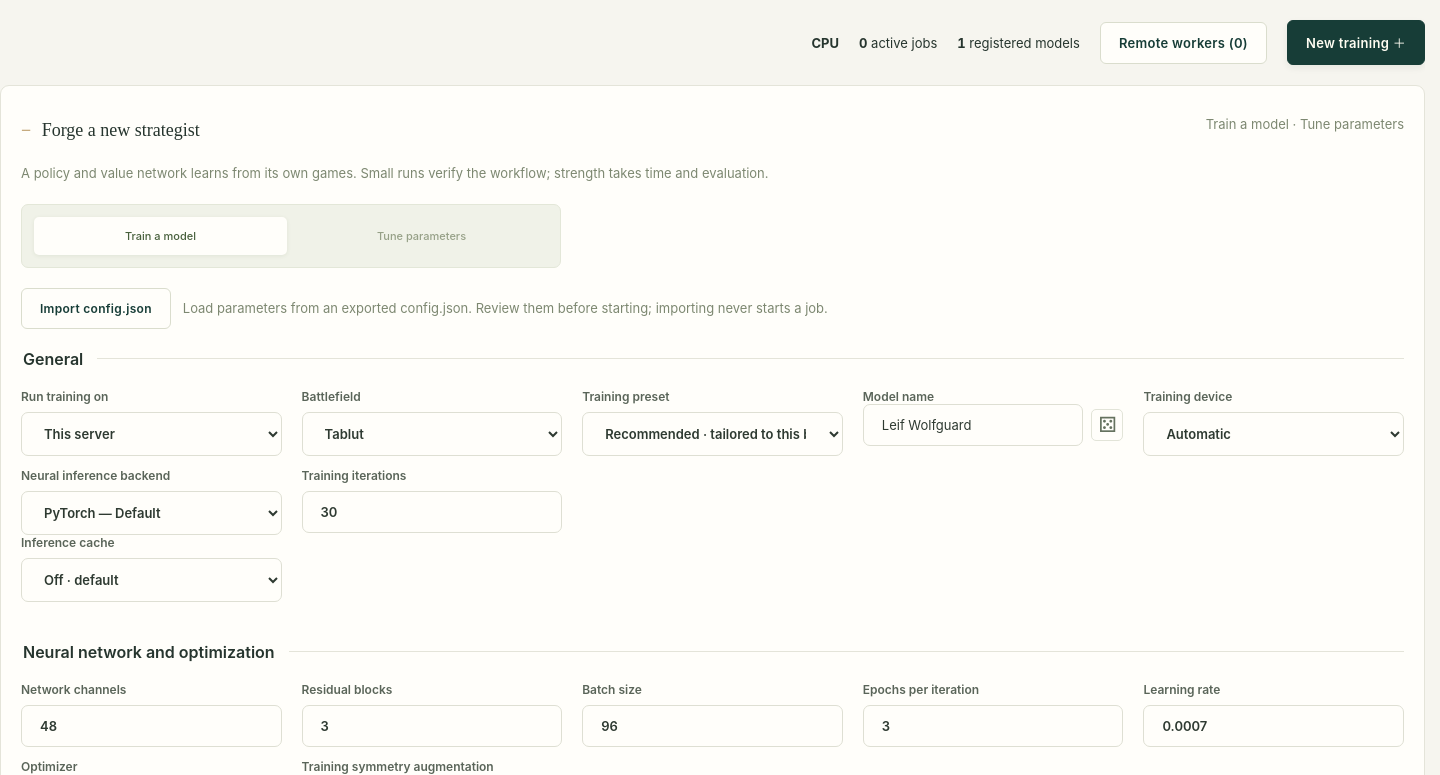
Test case: model and training collection controls › loads exact recorded budgets into the training form without starting work or copying paths
Click the button "Tune parameters" at point(422, 236), box [295, 217, 548, 255]
(page scrolled)
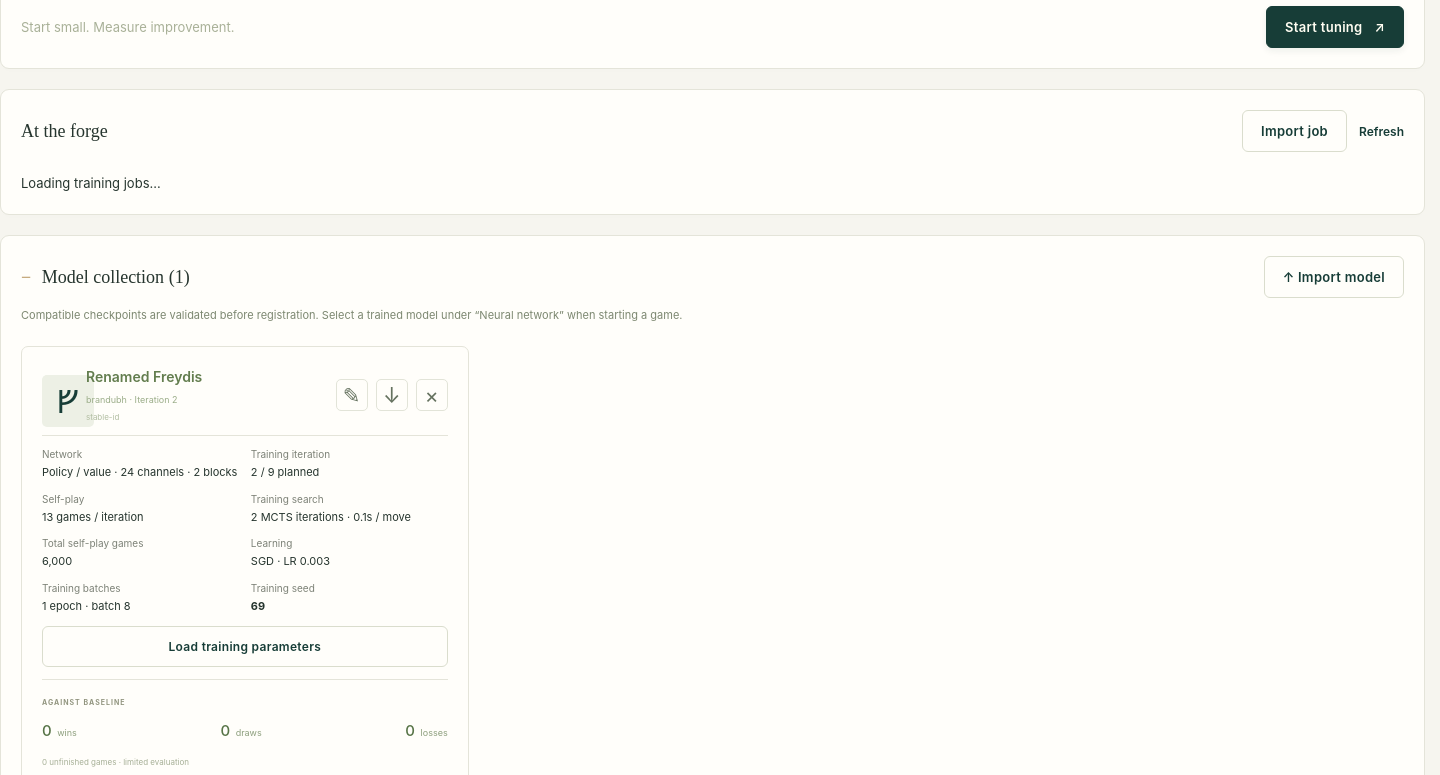
Click the button with aria-label "Load training parameters for Renamed Freydis" at point(245, 647), box [42, 626, 448, 667]
(page scrolled)
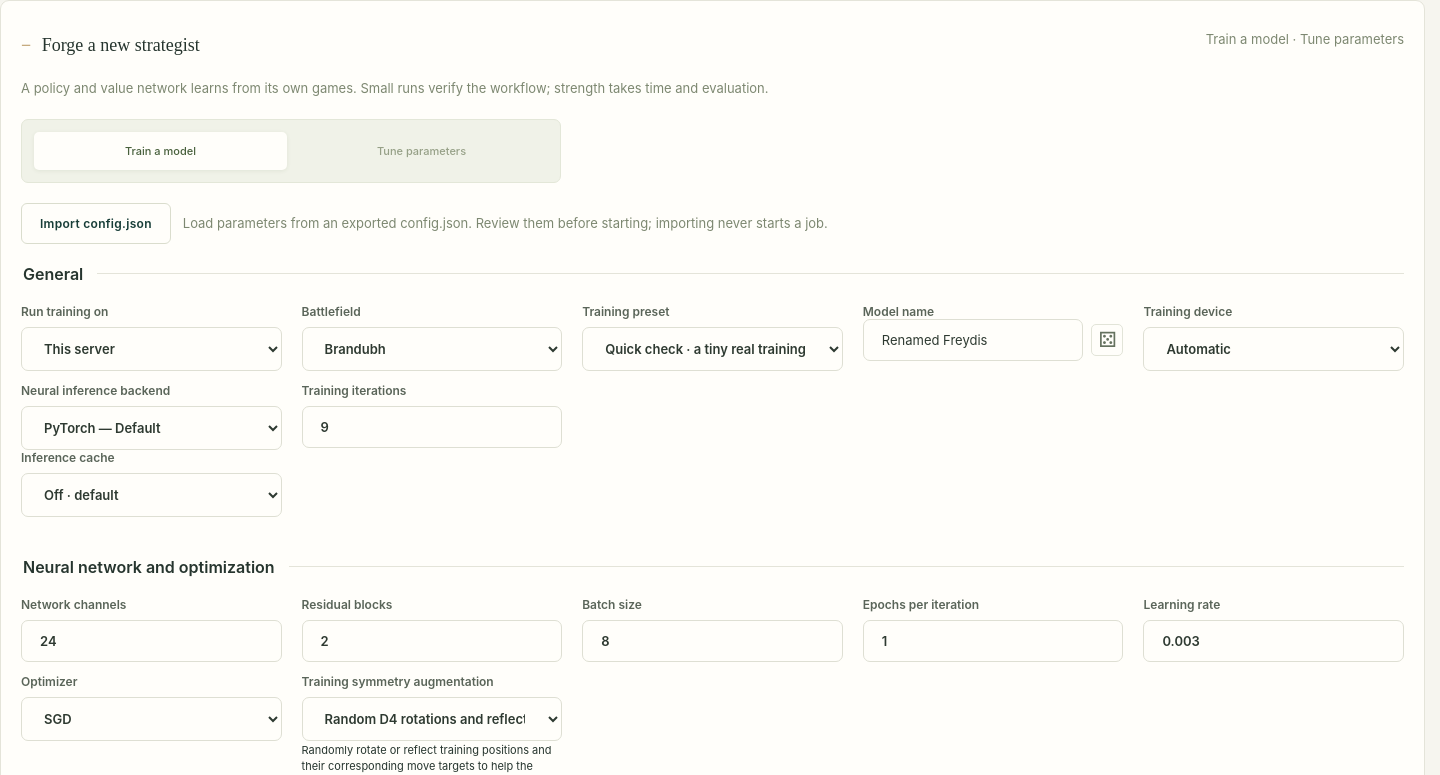
expect the field labelled "Model name" holds "Renamed Freydis": met, box [863, 319, 1083, 361]
expect the dropdown labelled "Battlefield" shows "Brandubh": met, box [302, 327, 562, 371]
expect the dropdown labelled "Training preset" shows "Quick check · a tiny real training run": met, box [582, 327, 843, 371]
